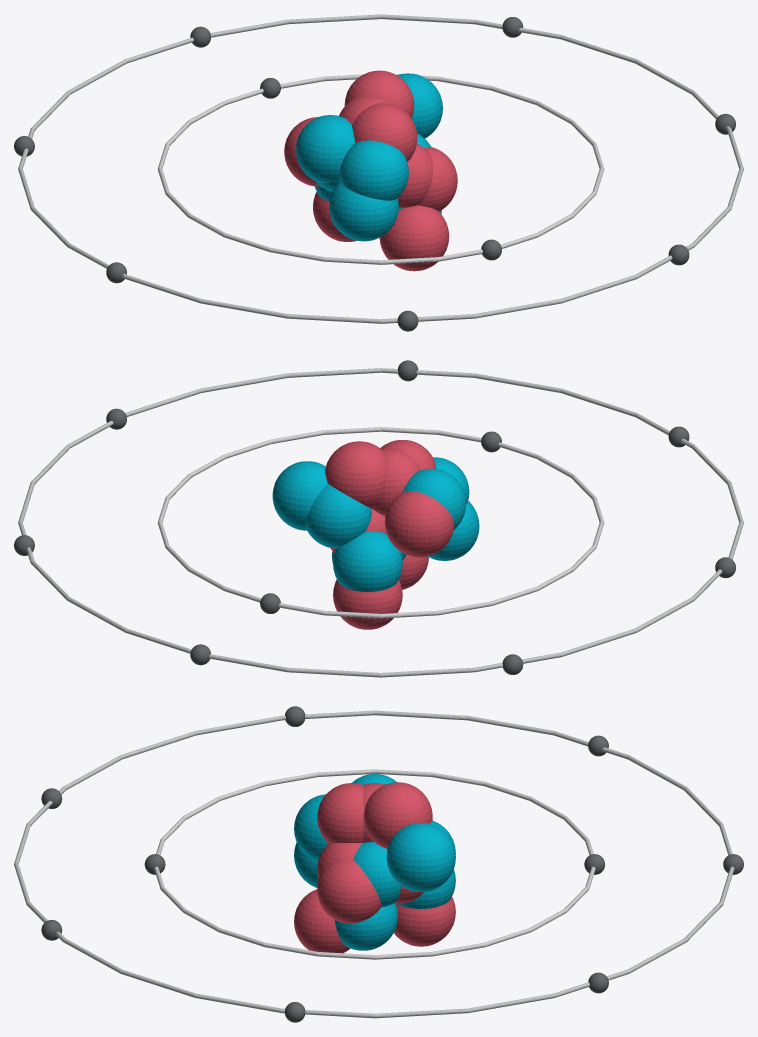
Rendered from Fluorine atom.glb.
3 renders of one model, top to bottom at view 1: azimuth 30°, elevation 25°; view 2: azimuth 150°, elevation 25°; view 3: azimuth 270°, elevation 25°, orthographic.
Parts seen in each view (by area): view 1: Mesh_Mesh_head_geo.001_lambert2SG.001; view 2: Mesh_Mesh_head_geo.001_lambert2SG.001; view 3: Mesh_Mesh_head_geo.001_lambert2SG.001.
Part boxes in pixels (x1,y1,x2,y2): Mesh_Mesh_head_geo.001_lambert2SG.001: [14, 14, 743, 331]; Mesh_Mesh_head_geo.001_lambert2SG.001: [14, 360, 743, 677]; Mesh_Mesh_head_geo.001_lambert2SG.001: [14, 706, 743, 1022].
Size of the model in its own units: 62.4 by 16 by 63.1.
